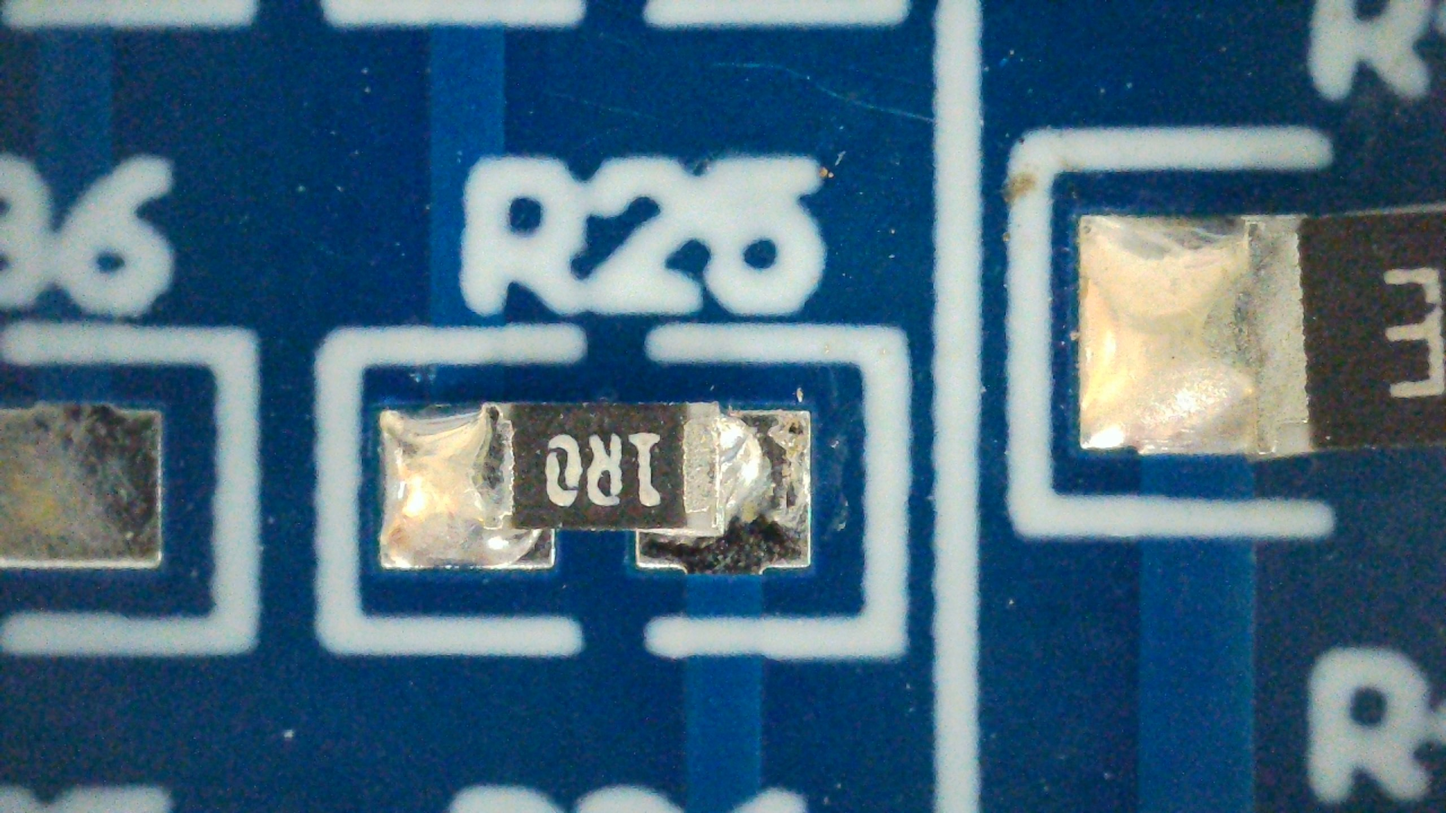OK: (377, 402, 809, 575)
